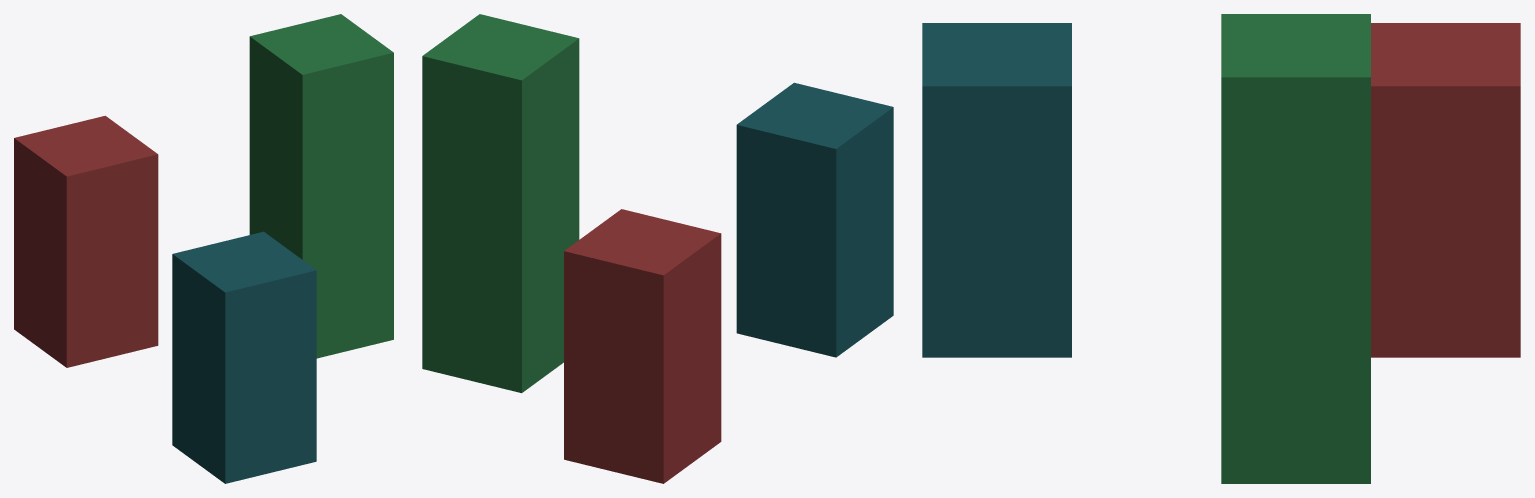
Rendered from Infirmary_Misc_00.fbx.
The picture shows the model from 3 angles, left to right: view 1: azimuth 30°, elevation 25°; view 2: azimuth 150°, elevation 25°; view 3: azimuth 270°, elevation 25°; orthographic projection. The views are drawn at different scales.
Parts seen in each view (by area): view 1: Infirmary_Misc_00; view 2: Infirmary_Misc_00; view 3: Infirmary_Misc_00.
Part boxes in pixels (bbox=[...]): Infirmary_Misc_00: bbox=[14, 14, 393, 483]; Infirmary_Misc_00: bbox=[422, 14, 893, 483]; Infirmary_Misc_00: bbox=[922, 14, 1520, 483].
Bounding box in the file's own units: 15 × 15 × 20.
